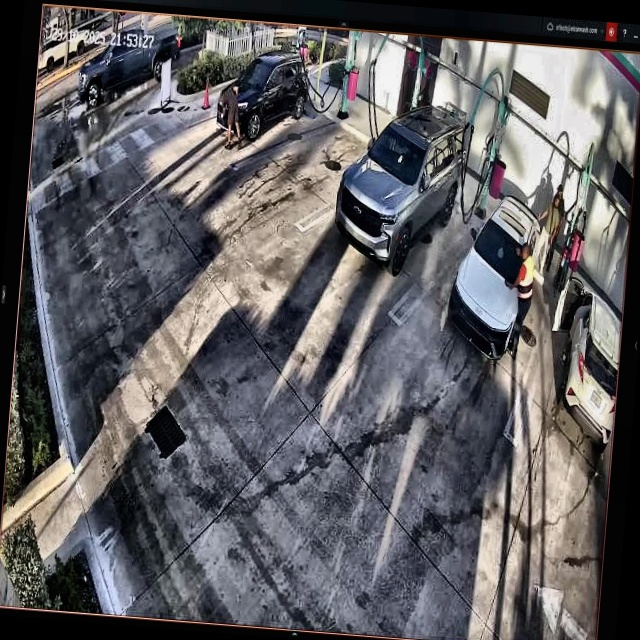Car: (330, 97, 468, 275), (447, 193, 541, 356)
